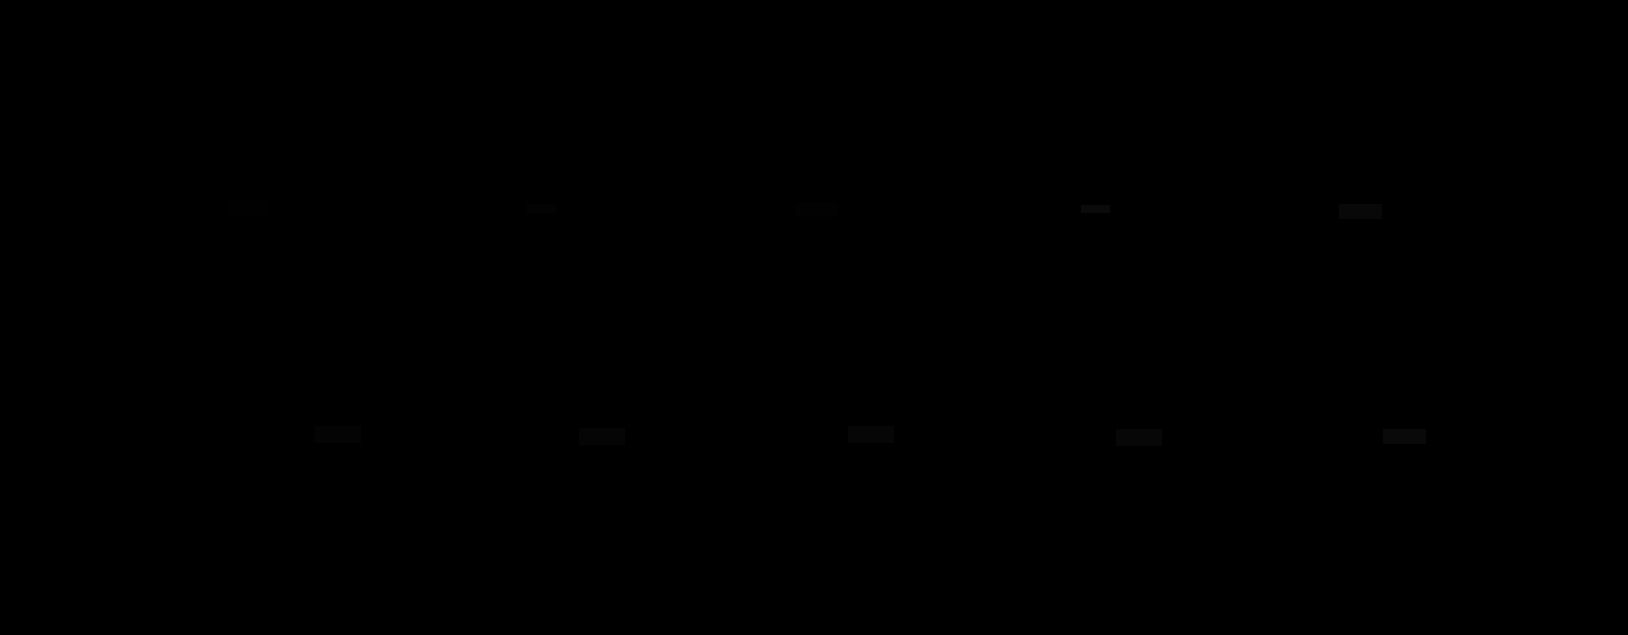light: (579, 427, 625, 445), (1116, 429, 1162, 446), (315, 426, 361, 443), (848, 426, 894, 443), (1383, 429, 1426, 444), (1339, 204, 1382, 219), (226, 201, 267, 216), (796, 202, 837, 217), (527, 204, 557, 213), (1081, 205, 1110, 213)
